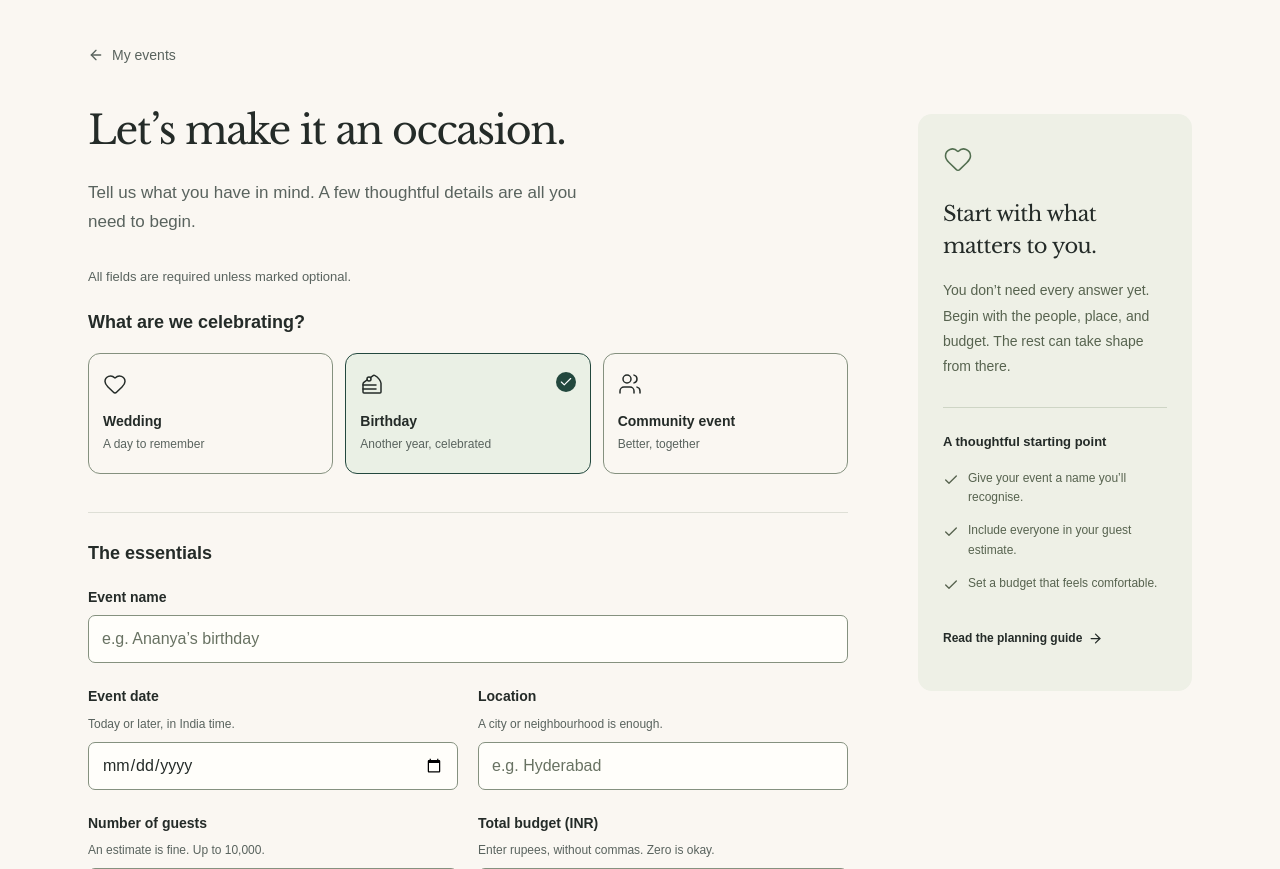
it: accessible event form › offers all three event types with a keyboard-operable radio group
The width and height of the screenshot is (1280, 869).
What coordinates should you click on to do the following:
click the radio button labelled "Wedding A day to remember"
I would click on:
 (211, 413)
Its box is 88,353 -> 333,474.
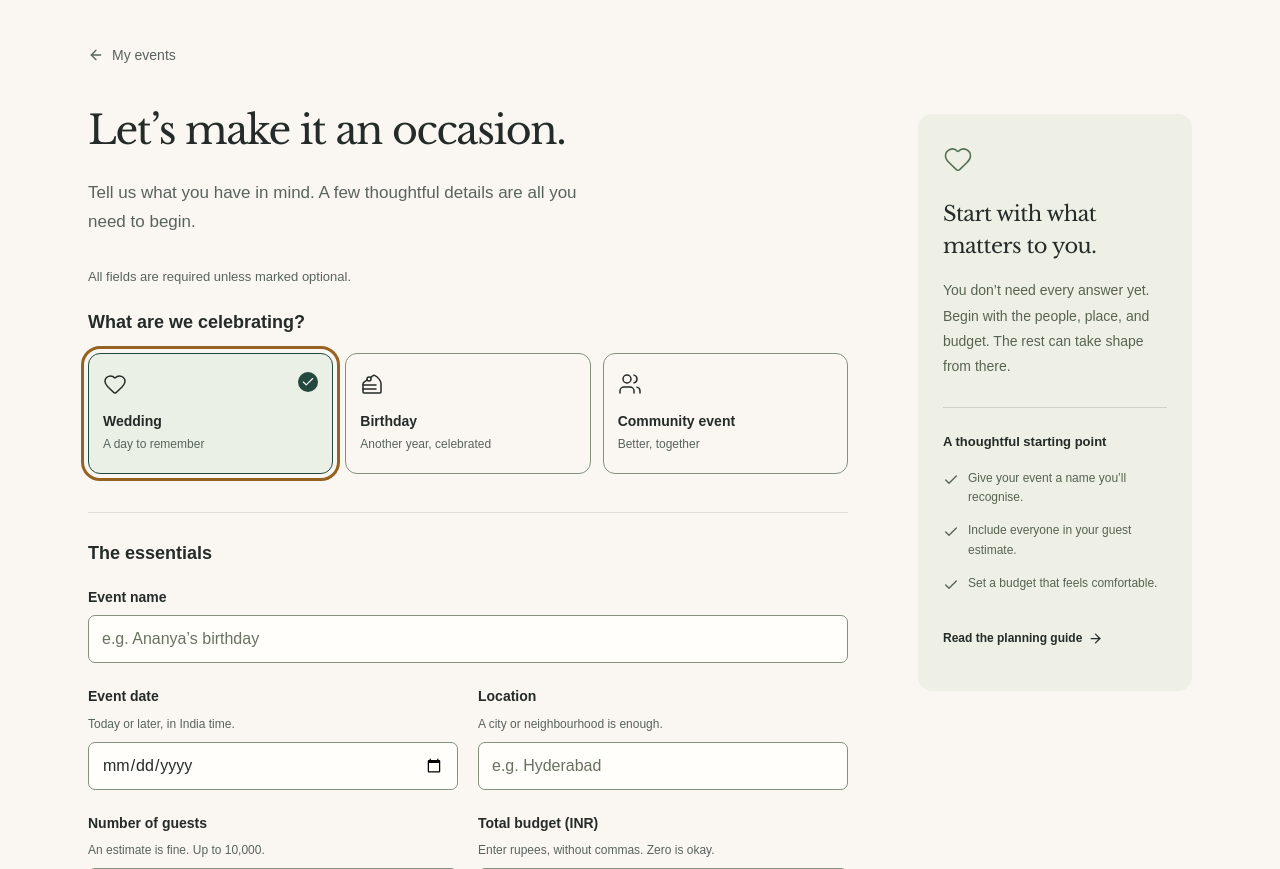
Expected: the radio button labelled "Wedding A day to remember" is checked, 88,353 -> 333,474
Expected: the radio button labelled "Birthday Another year, celebrated" is not checked, 345,353 -> 591,474
